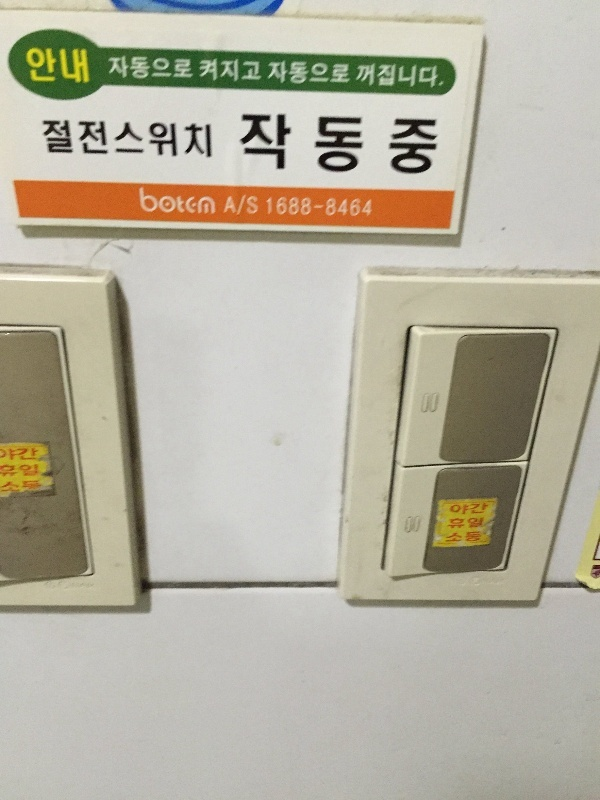text: (241, 110, 256, 179), (257, 110, 272, 179), (273, 110, 288, 179), (289, 110, 304, 179), (305, 110, 320, 179), (321, 110, 336, 179), (337, 110, 352, 179), (353, 110, 368, 179), (369, 110, 384, 179), (385, 110, 400, 179), (401, 110, 416, 179), (417, 110, 432, 179), (49, 118, 64, 163), (65, 118, 80, 163), (81, 118, 96, 163), (97, 118, 112, 163), (113, 118, 128, 163), (129, 118, 144, 163), (145, 118, 160, 163), (161, 118, 176, 163), (177, 118, 192, 163), (193, 118, 208, 163), (33, 48, 48, 86), (49, 48, 64, 86), (65, 48, 80, 86), (145, 184, 160, 217), (161, 184, 176, 217), (177, 184, 192, 217), (193, 184, 208, 217), (433, 110, 440, 179), (369, 62, 384, 91), (385, 62, 400, 91), (401, 62, 416, 91), (417, 62, 432, 91), (209, 57, 224, 84), (225, 57, 240, 84), (241, 57, 256, 84), (273, 59, 288, 86), (289, 59, 304, 86), (305, 59, 320, 86), (321, 59, 336, 86), (337, 59, 352, 86), (113, 56, 128, 82), (129, 56, 144, 82), (145, 56, 160, 82), (161, 56, 176, 82), (177, 56, 192, 82), (81, 48, 91, 86), (433, 62, 446, 91), (241, 194, 256, 219), (273, 195, 288, 219), (289, 195, 304, 219), (305, 195, 320, 219), (321, 195, 336, 219), (337, 195, 352, 219), (353, 195, 368, 219), (357, 62, 368, 91), (41, 118, 48, 163), (228, 194, 240, 219), (209, 184, 218, 217), (25, 48, 32, 86), (1, 445, 16, 462), (17, 445, 32, 462), (199, 57, 208, 84), (1, 463, 16, 479), (17, 463, 32, 479), (1, 479, 16, 495), (17, 479, 32, 495), (465, 501, 480, 516), (465, 530, 480, 545), (138, 184, 144, 217), (451, 501, 464, 516), (465, 517, 480, 530), (451, 530, 464, 545), (450, 517, 464, 530), (209, 118, 213, 163), (257, 57, 263, 84), (33, 479, 43, 495), (266, 195, 272, 219), (481, 501, 490, 516), (369, 195, 374, 219), (108, 56, 112, 82), (33, 445, 39, 462), (33, 463, 39, 479), (269, 59, 272, 86), (257, 194, 260, 219), (239, 110, 240, 179), (193, 56, 195, 82), (481, 517, 485, 530), (481, 530, 482, 545)
